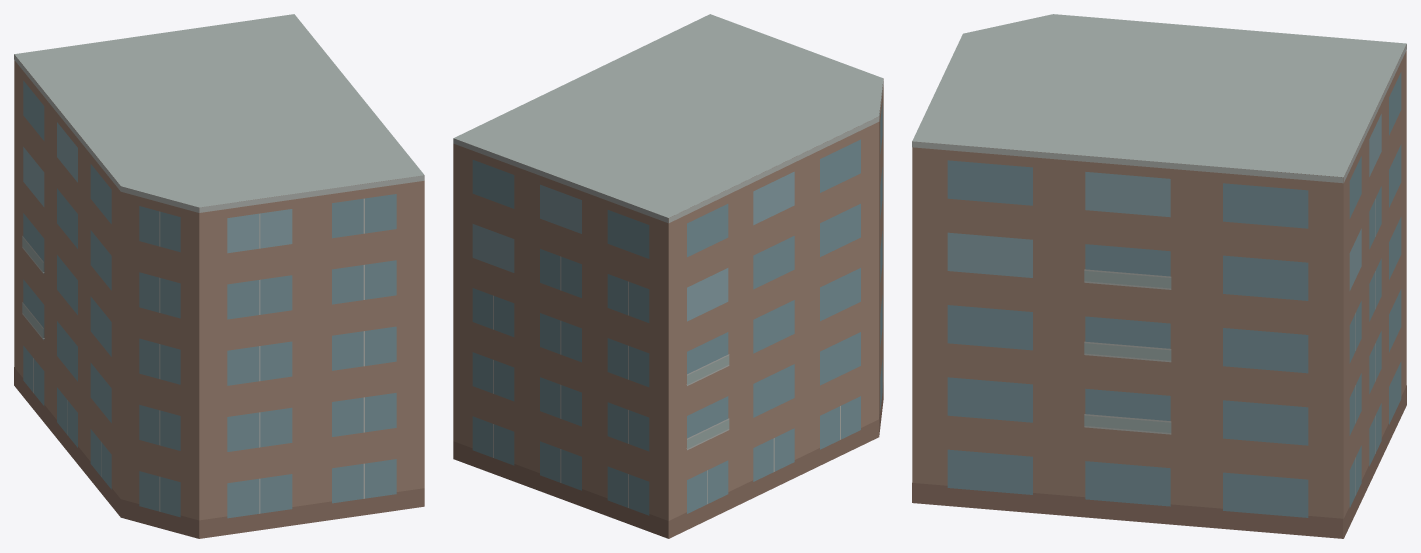
The model's file is survey-upis-32664835.glb.
3 renders of one model, left to right at view 1: azimuth 30°, elevation 25°; view 2: azimuth 150°, elevation 25°; view 3: azimuth 270°, elevation 25°, orthographic. The views are drawn at different scales.
Parts seen in each view (by area): view 1: survey-upis-32664835.tmp; view 2: survey-upis-32664835.tmp; view 3: survey-upis-32664835.tmp.
Boxes of the visible parts, left/top/right/bottom form: survey-upis-32664835.tmp: left=14, top=14, right=424, bottom=538; survey-upis-32664835.tmp: left=453, top=14, right=883, bottom=538; survey-upis-32664835.tmp: left=912, top=14, right=1406, bottom=538.
Bounding box in the file's own units: 14.24 × 14.7 × 18.24.
